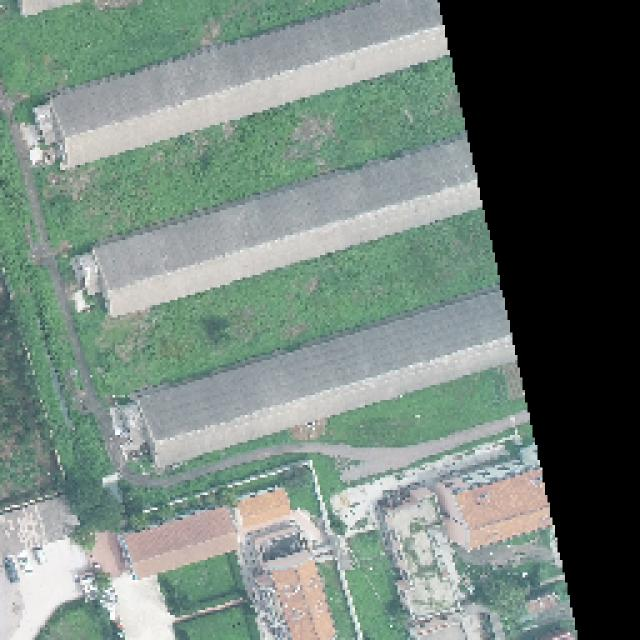Batiment: (90, 136, 479, 316), (50, 0, 443, 168)
